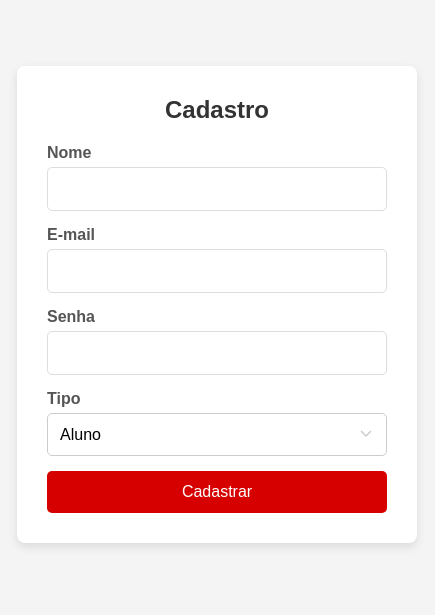
it: Cadastro — erros do Firebase traduzidos (AC-AUTH-05) › explica em português como vincular a conta já criada por outro método
In the field labelled "Nome": (217, 188) [47,166,387,210], type "Ana Souza"
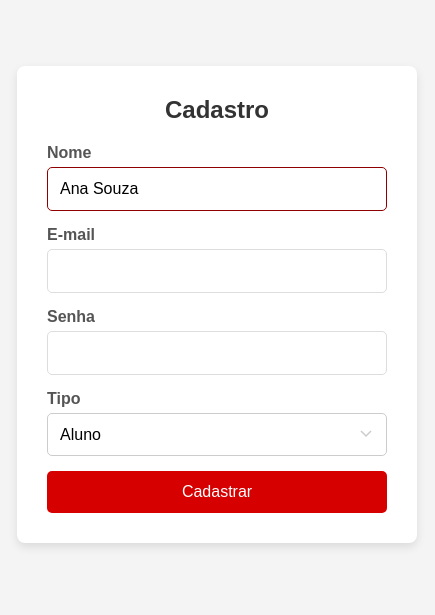
In the field labelled "E-mail": (217, 270) [47,248,387,292], type "ana@senai.br"
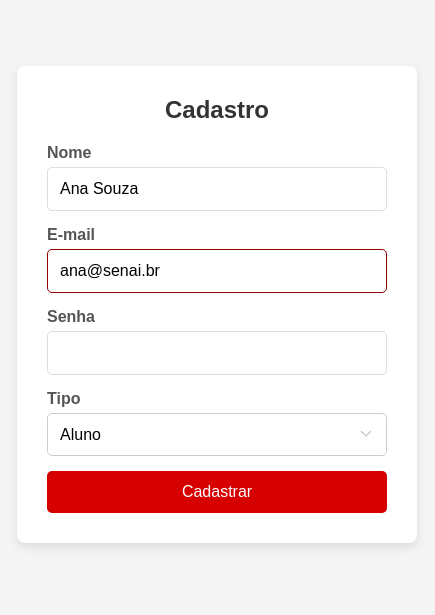
In the password field labelled "Senha": (217, 352) [47,330,387,374], type "senha123"
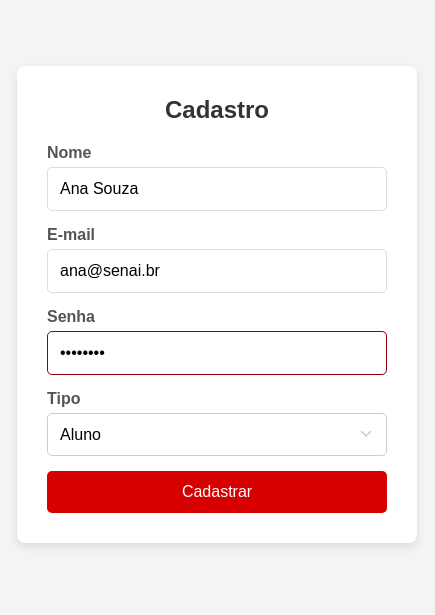
Click the button "Cadastrar": (217, 492) [47,470,387,512]
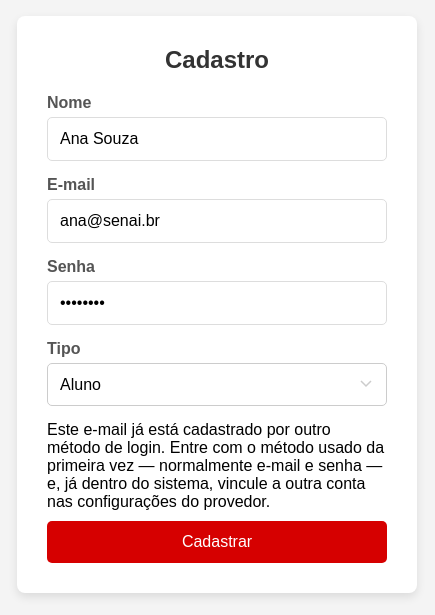
Check: the text "já está cadastrado por outro método de login" is shown, box [47,420,384,510]
